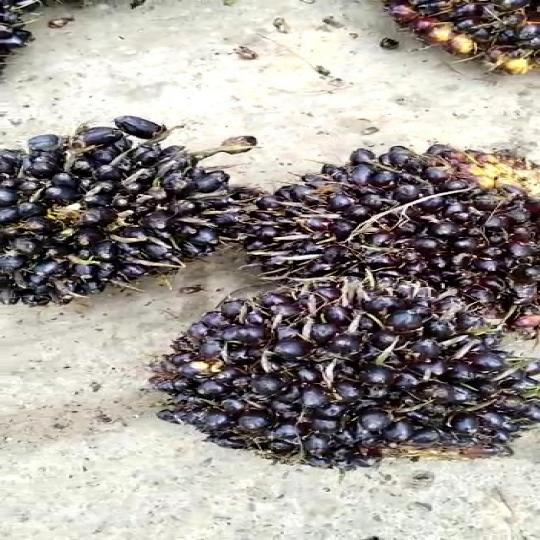mentah: (154, 283, 540, 473), (0, 108, 262, 313), (246, 148, 540, 307)
